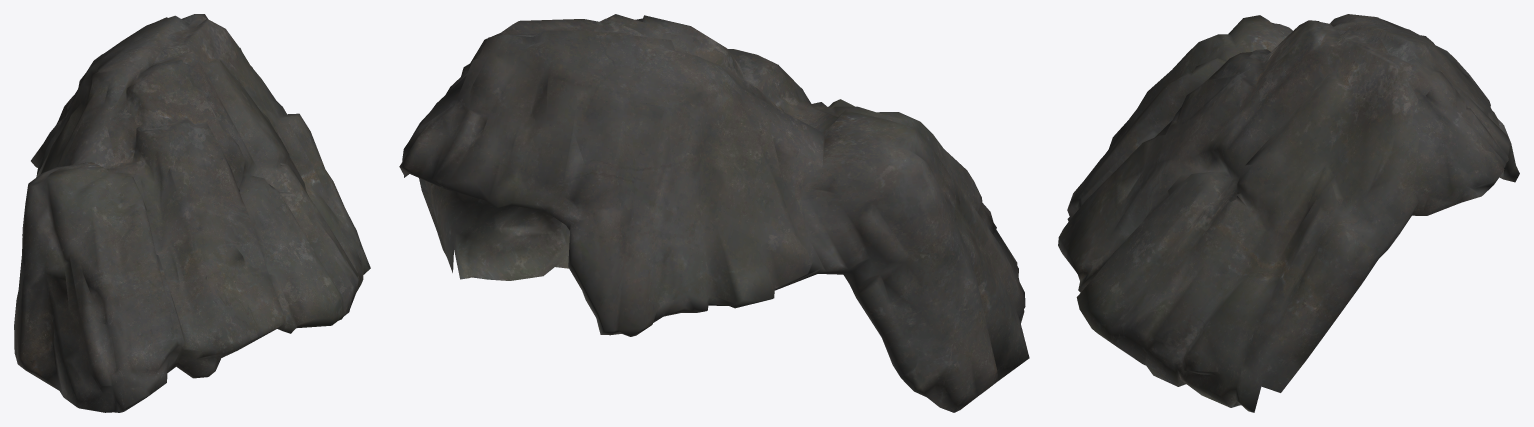
File: Cliff_W2_03.fbx
The picture shows the model from 3 angles, left to right: view 1: azimuth 30°, elevation 25°; view 2: azimuth 150°, elevation 25°; view 3: azimuth 270°, elevation 25°; orthographic projection. The views are drawn at different scales.
Parts seen in each view (by area): view 1: SM_W2_Cliff_03.mo; view 2: SM_W2_Cliff_03.mo; view 3: SM_W2_Cliff_03.mo.
Part boxes in pixels (box(x1,y1,x2,y2)): SM_W2_Cliff_03.mo: box(14, 14, 370, 412); SM_W2_Cliff_03.mo: box(399, 14, 1029, 412); SM_W2_Cliff_03.mo: box(1058, 14, 1519, 412).
Size of the model in its own units: 4165 by 2896 by 3807.
1 material, 1 textured.
